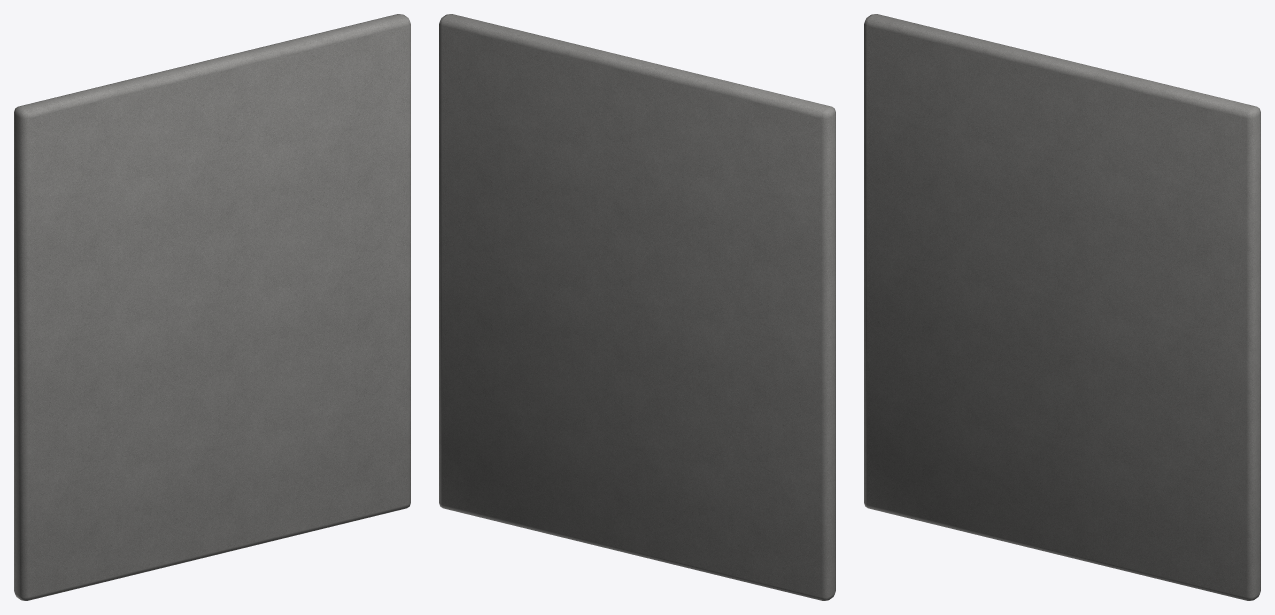
The model's file is partition.acoustic-panel.glb.
3 renders of one model, left to right at view 1: azimuth 30°, elevation 25°; view 2: azimuth 150°, elevation 25°; view 3: azimuth 330°, elevation 25°, orthographic.
Parts seen in each view (by area): view 1: partition.acoustic-panel.001; view 2: partition.acoustic-panel.001; view 3: partition.acoustic-panel.001.
Boxes of the visible parts, box(x1,y1,x2,y2) form: partition.acoustic-panel.001: box(14, 14, 410, 600); partition.acoustic-panel.001: box(439, 14, 835, 600); partition.acoustic-panel.001: box(864, 14, 1260, 600).
Size of the model in its own units: 1 by 1.2 by 0.05.
1 material, 1 textured.
